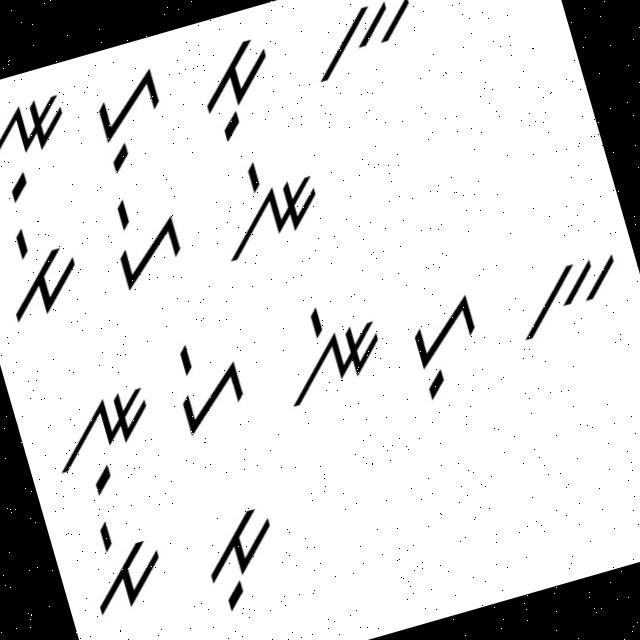he: (158, 319, 268, 442), (88, 184, 197, 298)
hu: (389, 279, 497, 406), (78, 64, 186, 180)
mbe: (68, 504, 185, 634), (0, 205, 95, 328)
mbu: (178, 495, 304, 625), (180, 34, 291, 150)
nde: (193, 142, 342, 280), (259, 284, 400, 418)
ndu: (33, 369, 173, 506), (0, 82, 90, 219)
